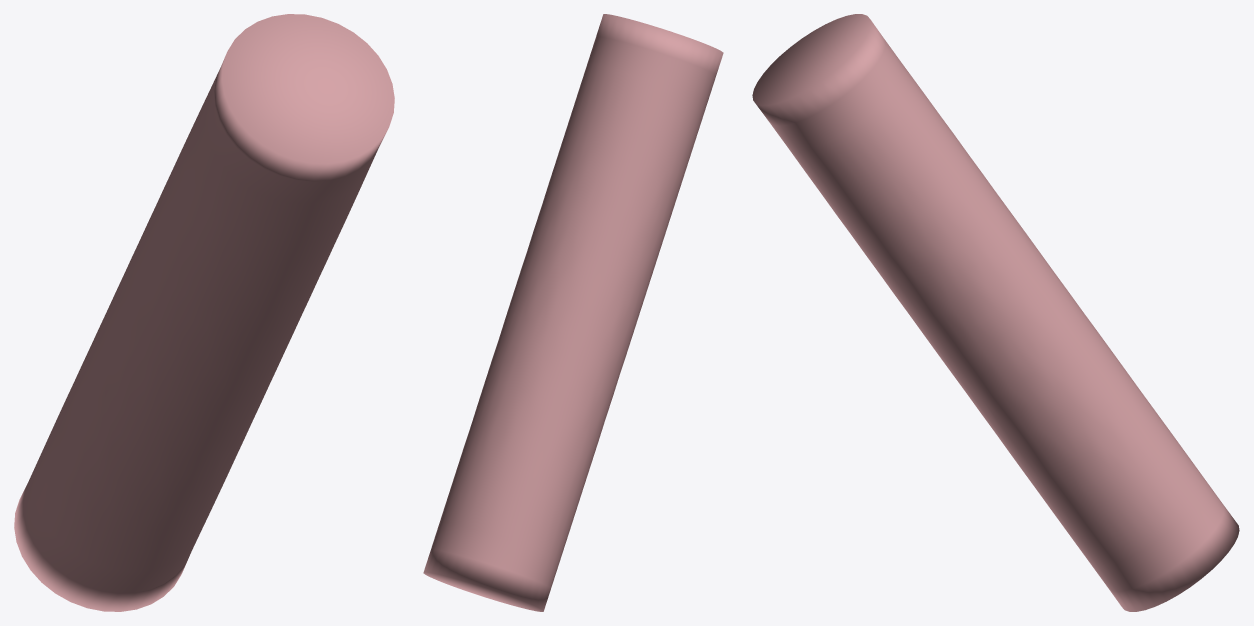
File: fma75369-l_mm1067.glb
3 renders of one model, left to right at view 1: azimuth 30°, elevation 25°; view 2: azimuth 150°, elevation 25°; view 3: azimuth 270°, elevation 25°, orthographic. The views are drawn at different scales.
Visible parts, largest first — view 1: FMA75369-L_MM1067; view 2: FMA75369-L_MM1067; view 3: FMA75369-L_MM1067.
Part boxes in pixels (x1,y1,x2,y2): FMA75369-L_MM1067: (14, 14, 394, 611); FMA75369-L_MM1067: (423, 14, 723, 611); FMA75369-L_MM1067: (752, 14, 1239, 611).
Size of the model in its own units: 0.00556 by 0.0214 by 0.0166.
